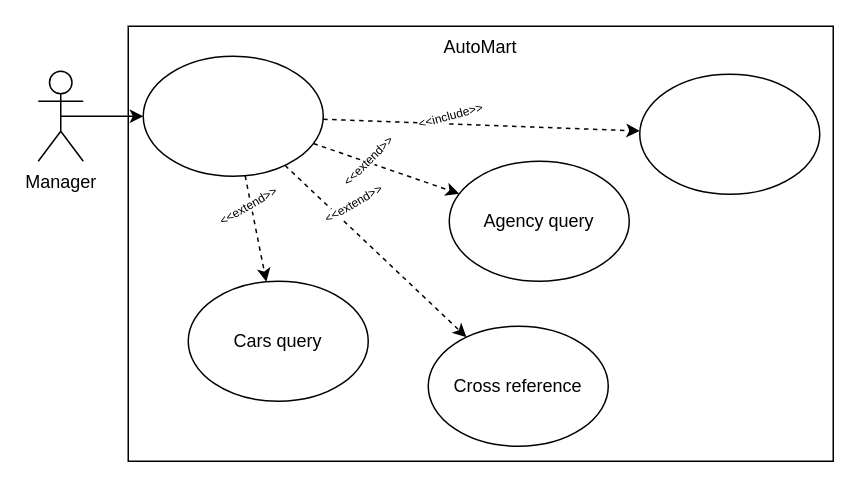
This 860x488 diagram has some shape labels left out. The centre of each missing label's shape, as x and y in pixels:
"Database access" goes at point 232,115.
"Return Cars in Agency" goes at point 729,133.
